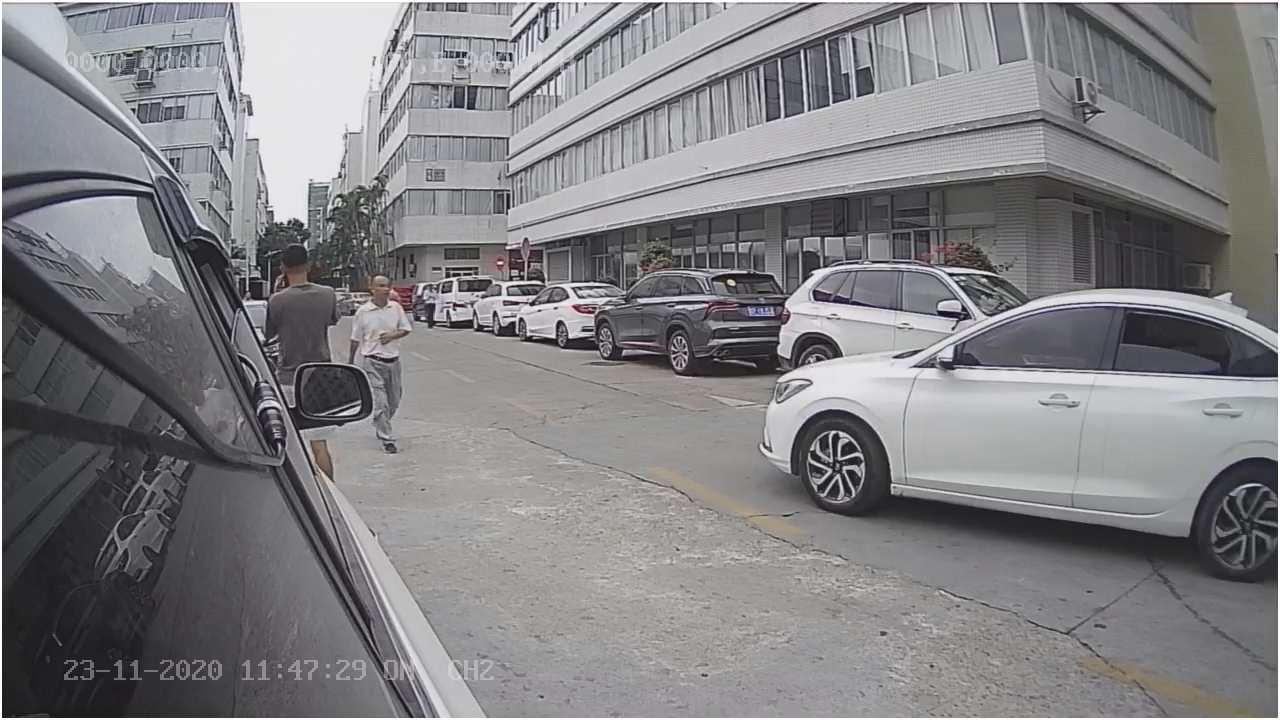person: (260, 237, 347, 357)
